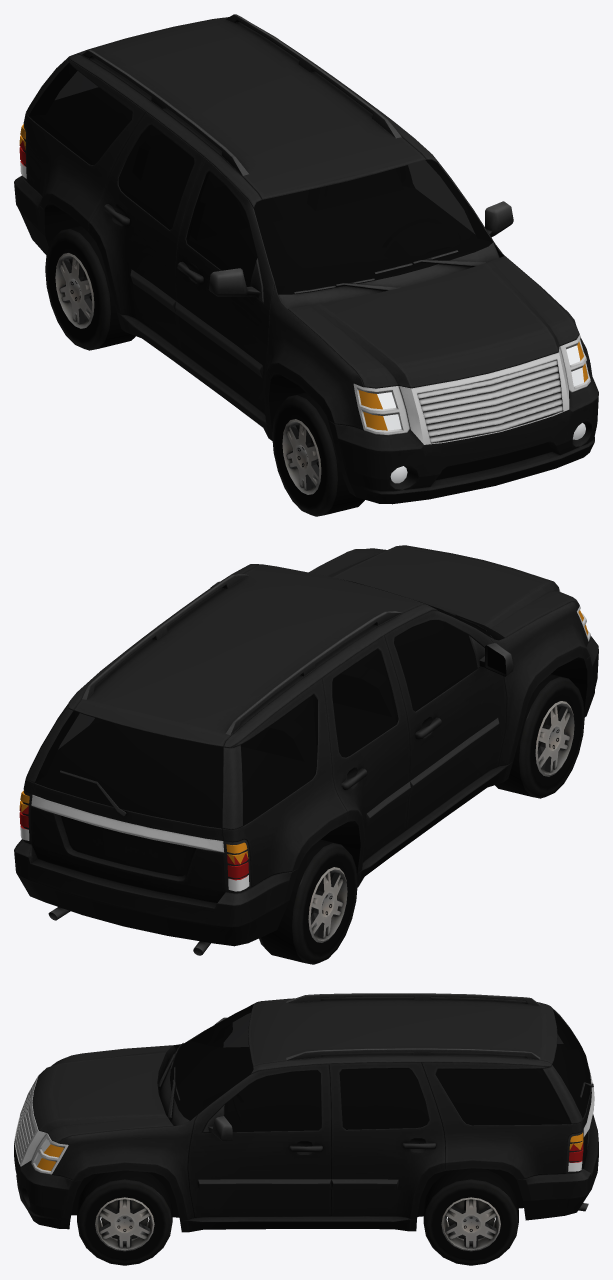
File: car_traffic_4.glb
3 views of the same model, one above another, from view 1: azimuth 30°, elevation 25°; view 2: azimuth 150°, elevation 25°; view 3: azimuth 270°, elevation 25° (orthographic). The views are drawn at different scales.
Visible parts, largest first — view 1: Body, Glass, WheelRR, WheelFR, Headlights; view 2: Body, Glass, WheelRR, WheelFR, Brakelights; view 3: Body, Glass, WheelRL, WheelFL.
Part boxes in pixels (bbox=[...]): Body: bbox=[14, 14, 598, 504]; Glass: bbox=[29, 63, 492, 294]; WheelRR: bbox=[45, 225, 135, 350]; WheelFR: bbox=[272, 392, 364, 516]; Headlights: bbox=[377, 345, 585, 483]; Body: bbox=[14, 545, 598, 955]; Glass: bbox=[35, 579, 492, 828]; WheelRR: bbox=[259, 839, 357, 964]; WheelFR: bbox=[495, 674, 584, 798]; Brakelights: bbox=[19, 805, 248, 880]; Body: bbox=[14, 993, 598, 1232]; Glass: bbox=[170, 1005, 590, 1132]; WheelRL: bbox=[423, 1168, 518, 1265]; WheelFL: bbox=[77, 1170, 172, 1265].
Bounding box in the file's own units: 1.99 × 1.67 × 4.43.
Materials: 7 (2 with a texture image).
